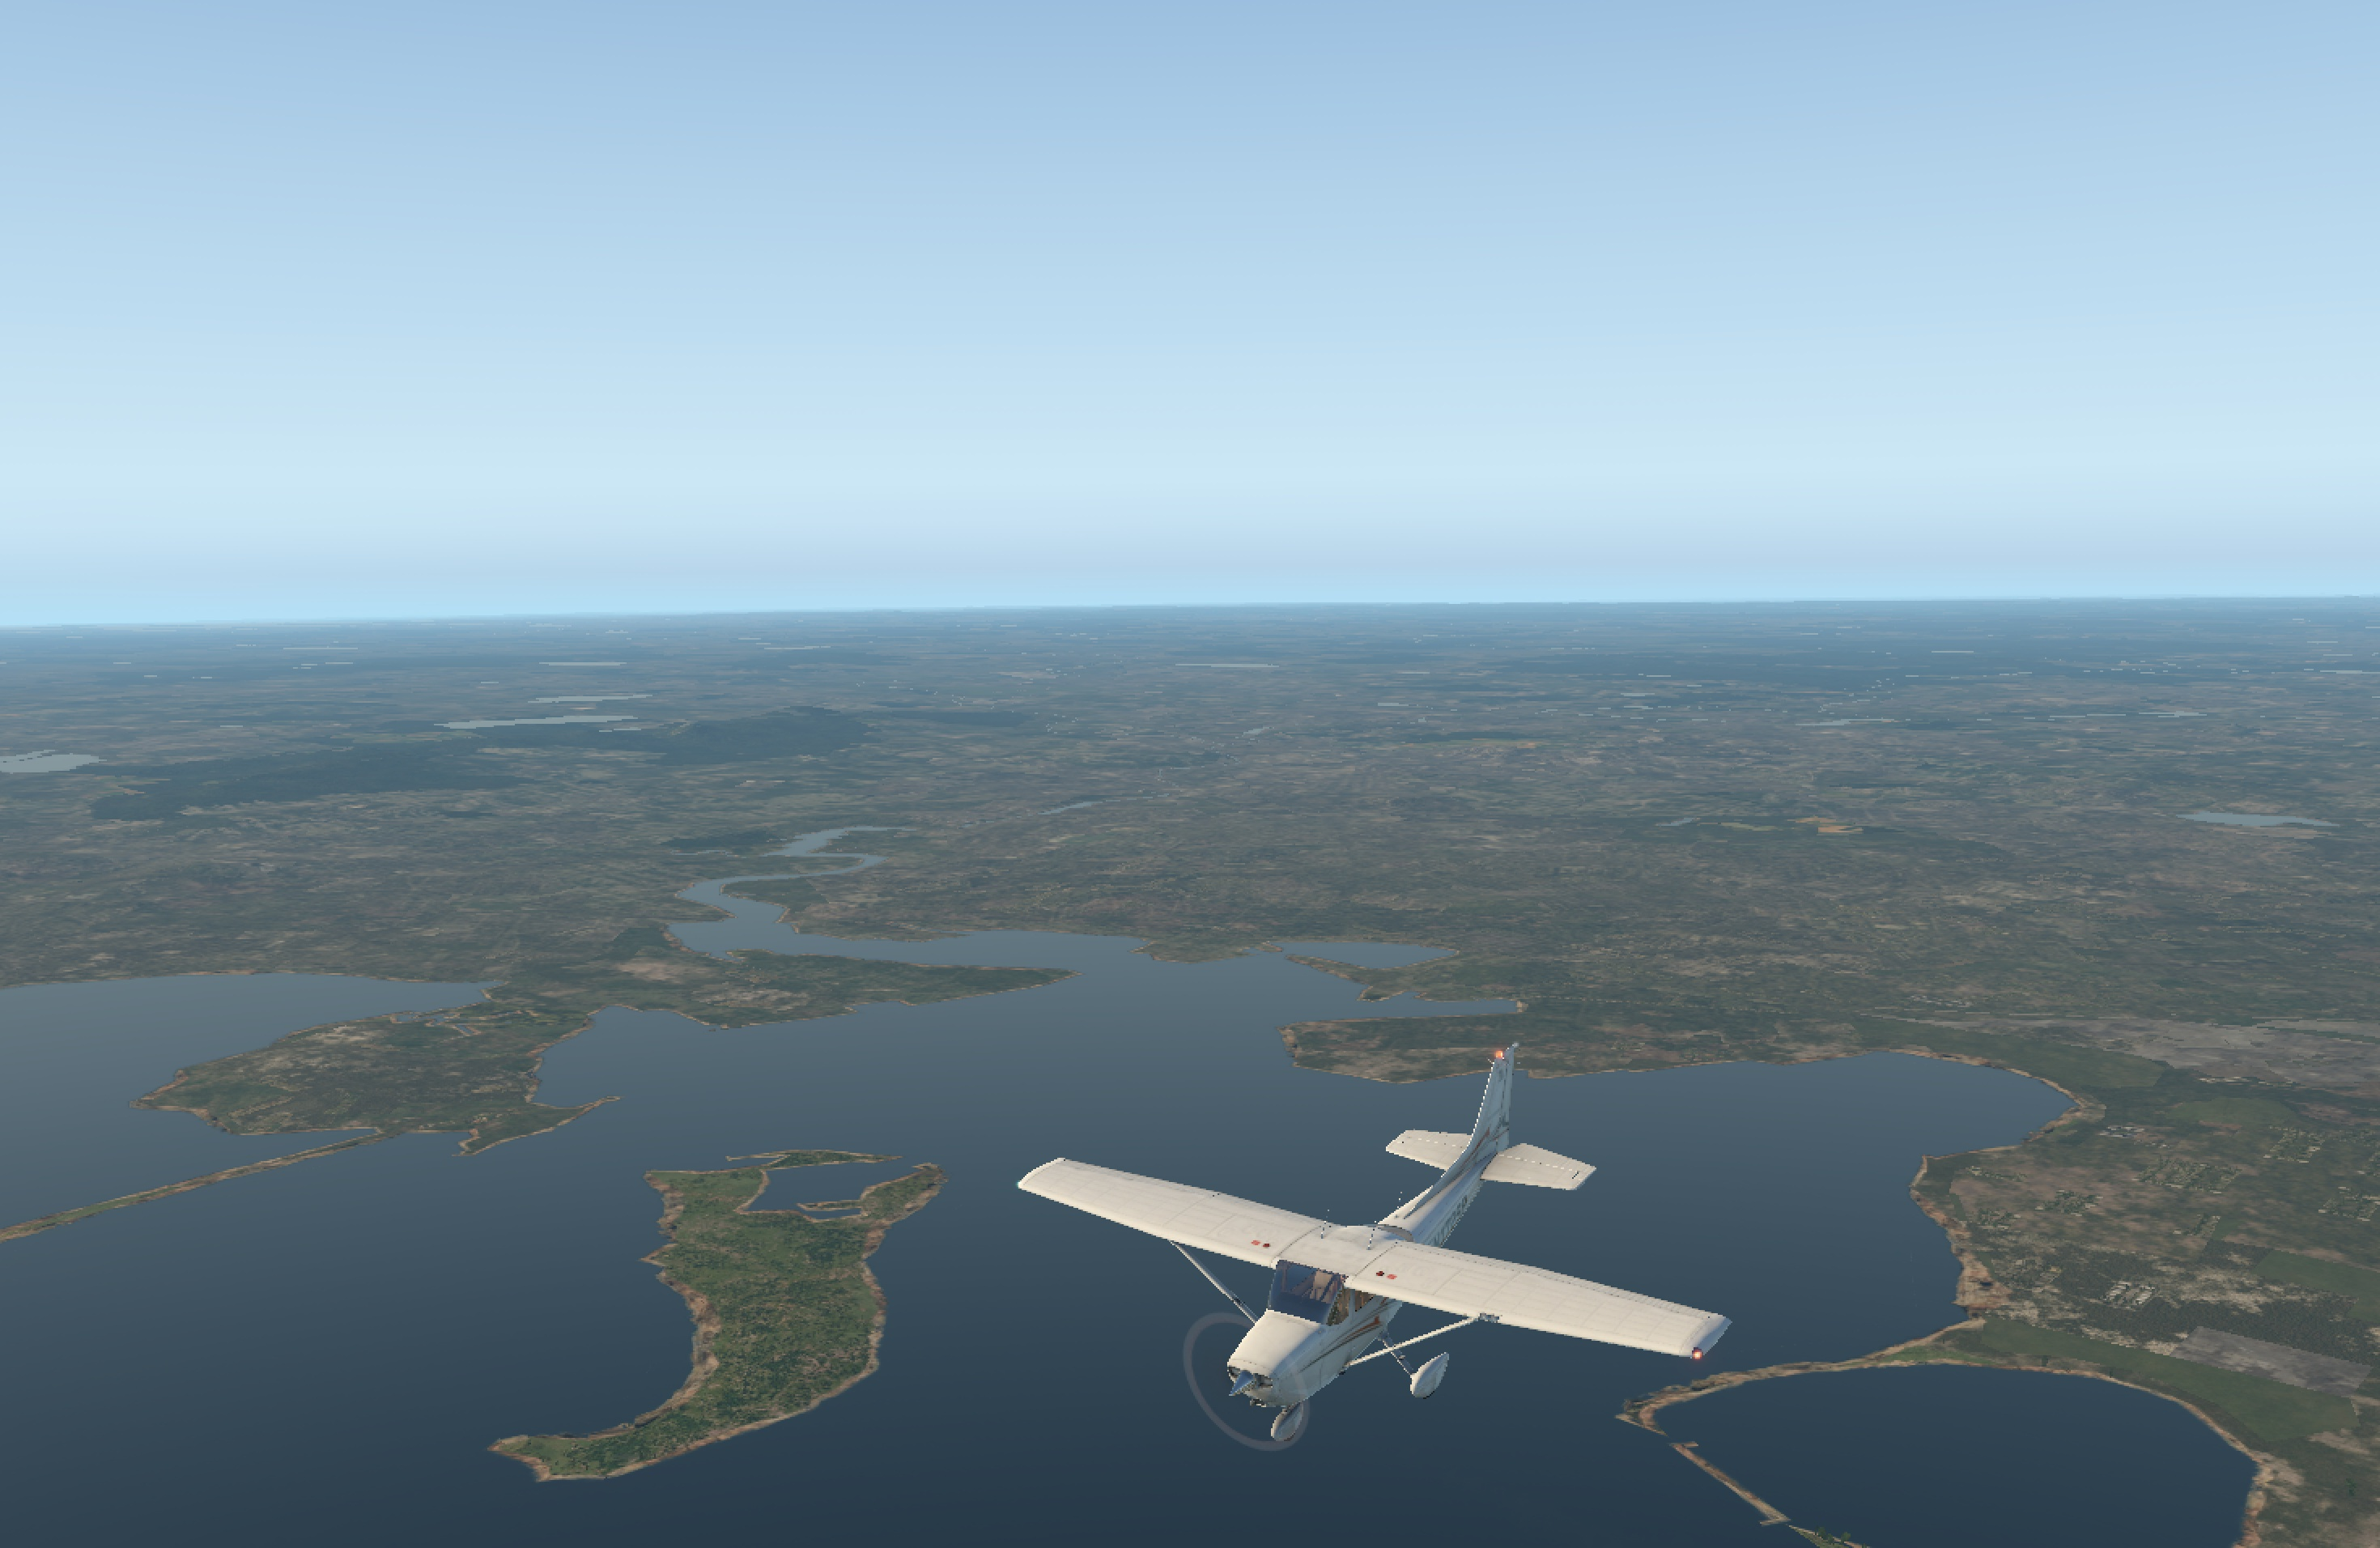aircraft: (1053, 1196, 1608, 1402)
